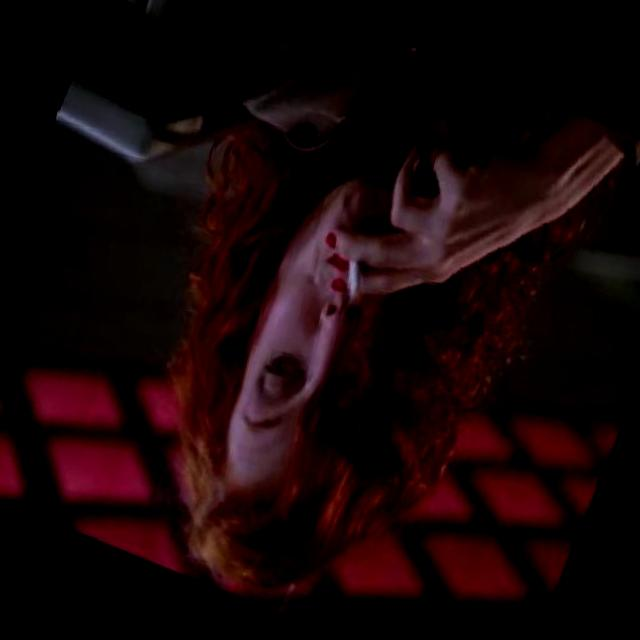smoke: (332, 256, 372, 306)
